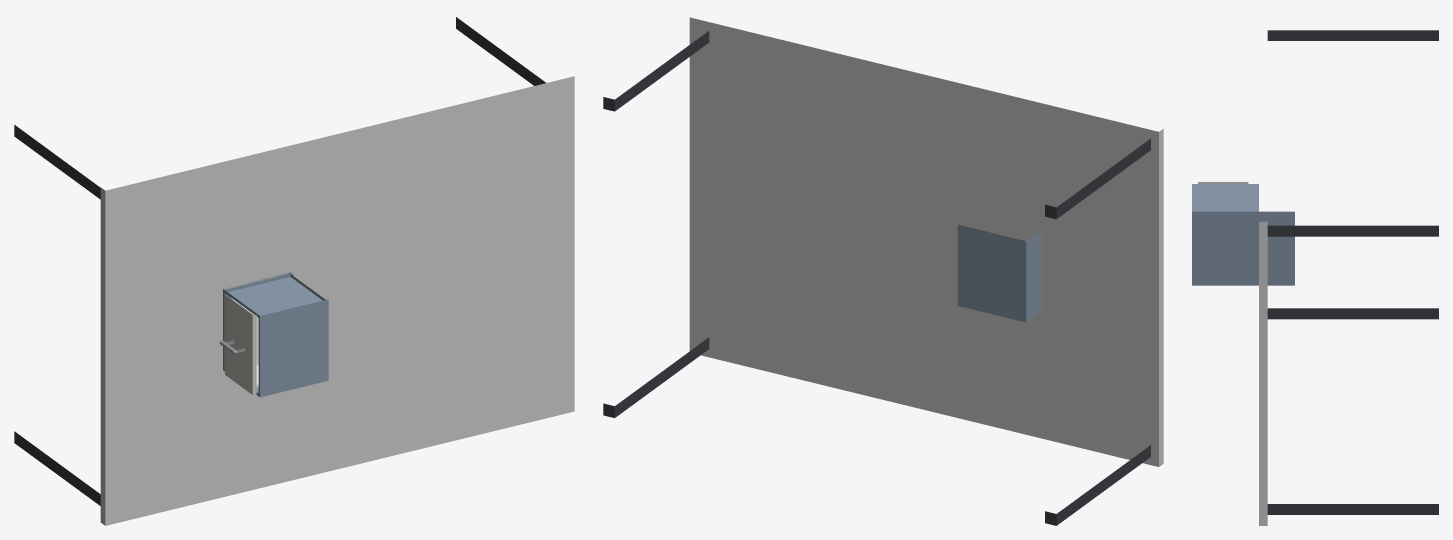
3 renders of one model, left to right at view 1: azimuth 30°, elevation 25°; view 2: azimuth 150°, elevation 25°; view 3: azimuth 270°, elevation 25°, orthographic. The views are drawn at different scales.
Parts seen in each view (by area): view 1: s0, s1, s2; view 2: s0, s1; view 3: s0, s1.
Part boxes in pixels (left/top/right/bottom): s0: left=14, top=17, right=574, bottom=525; s1: left=223, top=272, right=328, bottom=397; s2: left=220, top=295, right=258, bottom=394; s0: left=603, top=17, right=1163, bottom=525; s1: left=957, top=224, right=1041, bottom=322; s0: left=1259, top=30, right=1438, bottom=525; s1: left=1192, top=184, right=1294, bottom=285.
Bounding box in the file's own units: 2.05 × 1.4 × 1.03.
